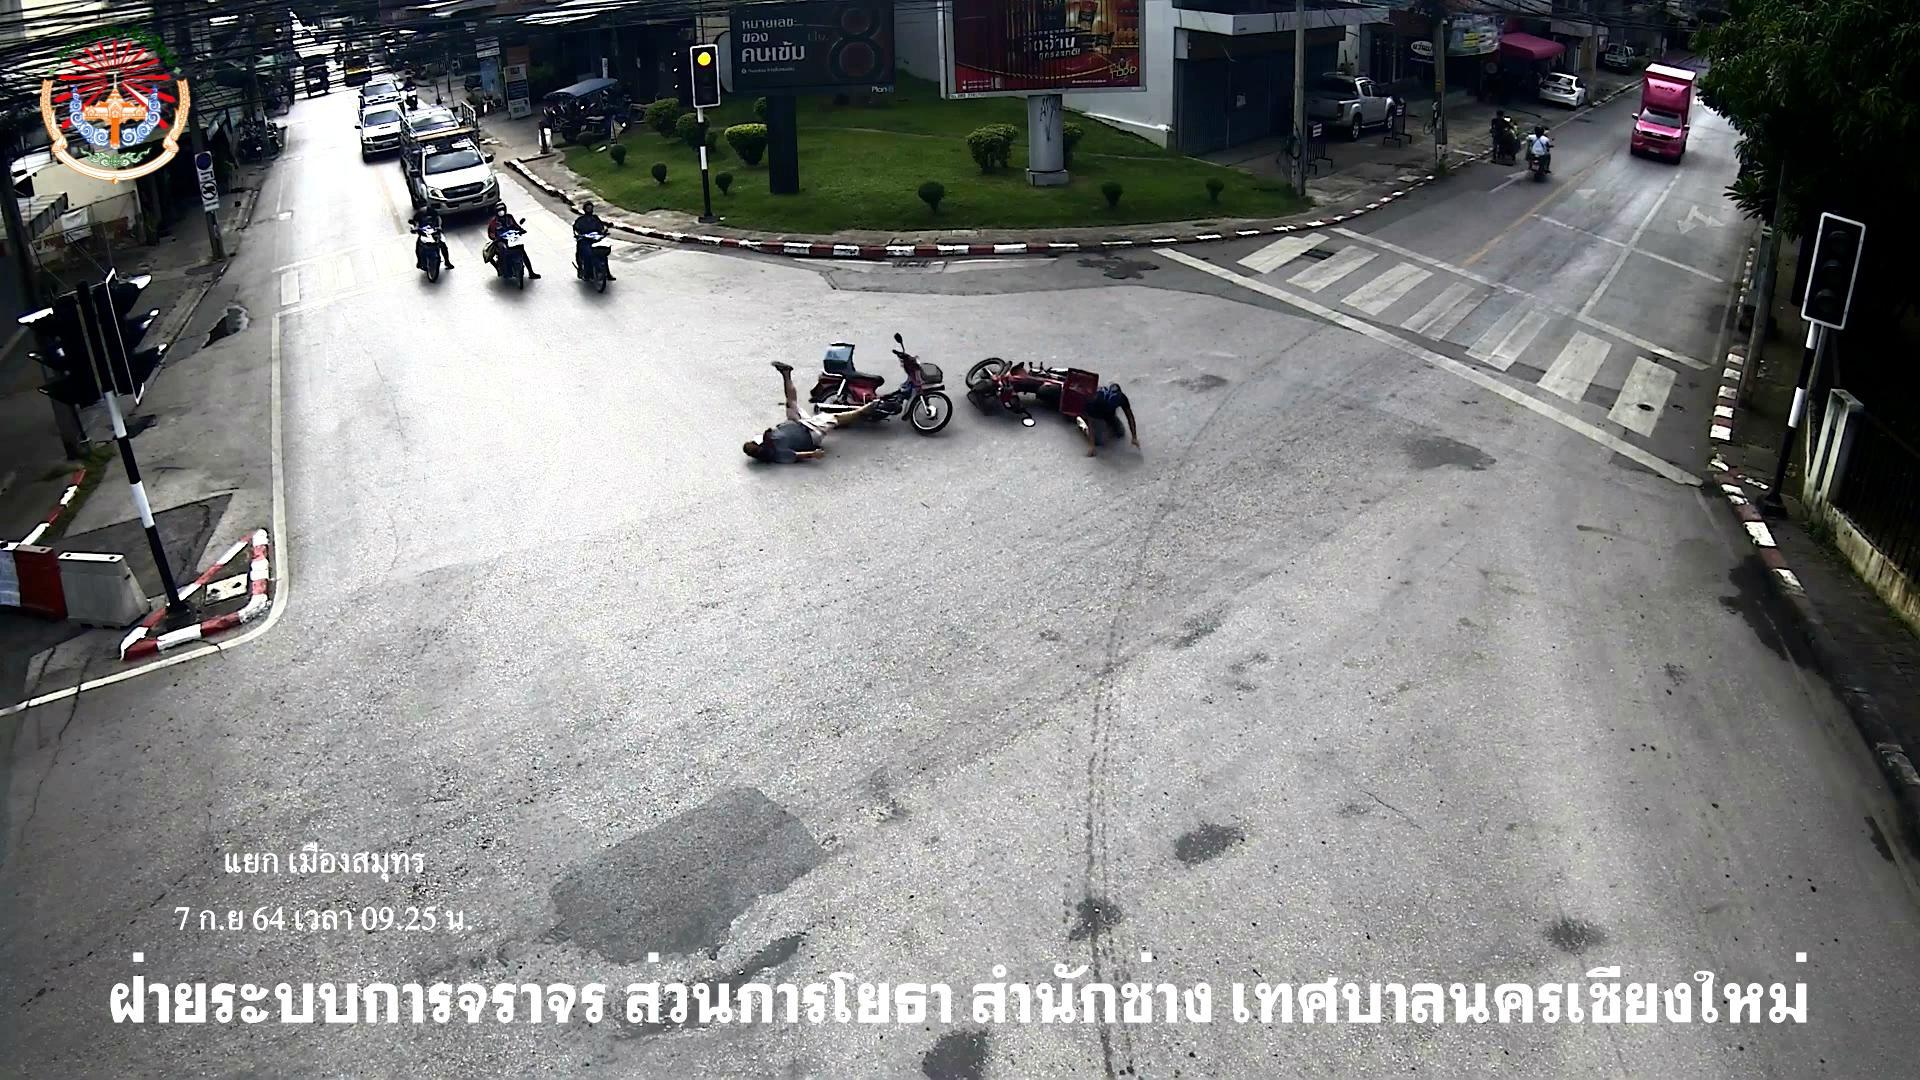accident: (742, 359, 885, 471), (1077, 380, 1146, 471)
